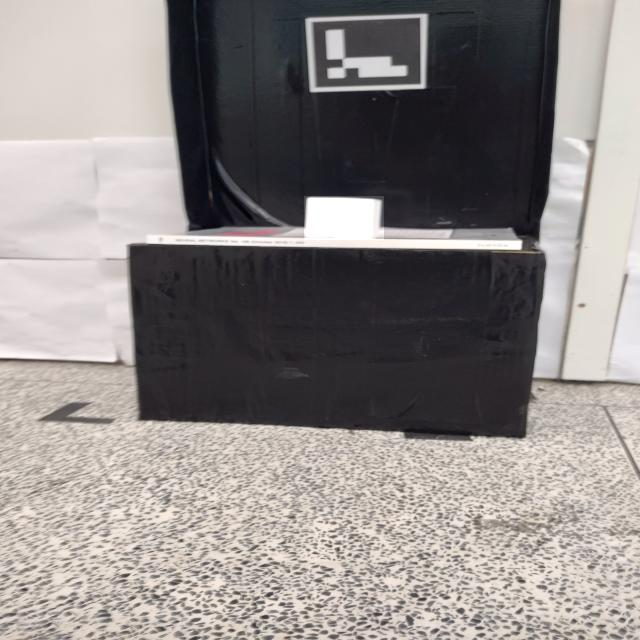bale: (304, 196, 384, 240)
